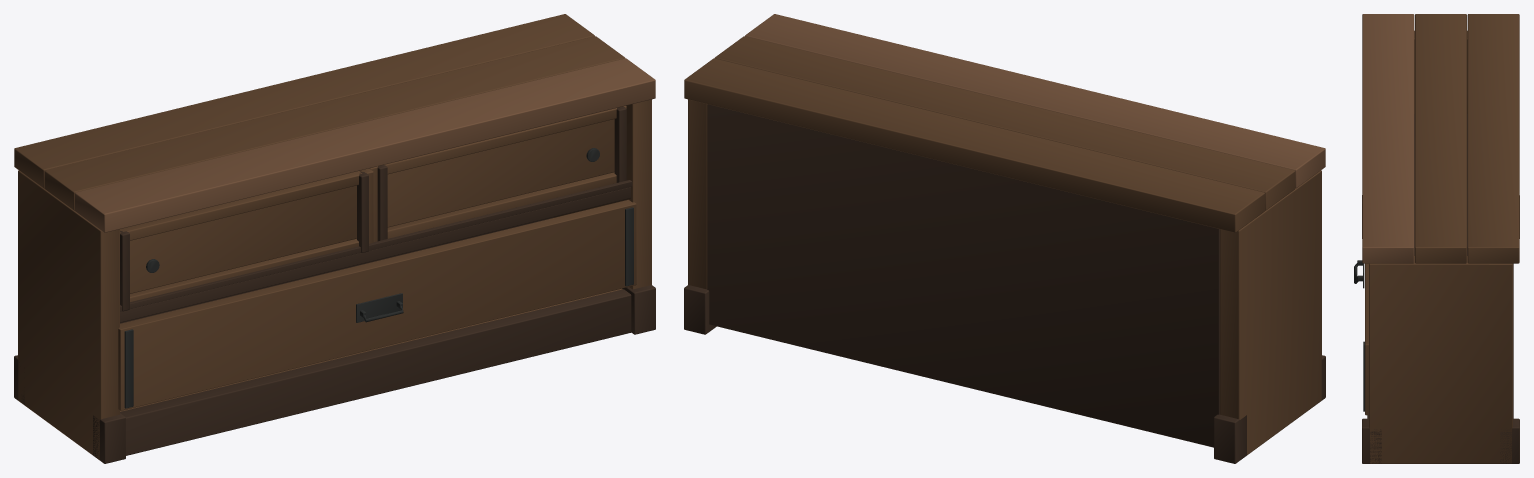
Rendered from kominka-chadansu-1500-01.glb.
3 views of the same model, side by side, from view 1: azimuth 30°, elevation 25°; view 2: azimuth 150°, elevation 25°; view 3: azimuth 270°, elevation 25° (orthographic). The views are drawn at different scales.
Visible parts, largest first — view 1: kominka-chadansu-1500-01; view 2: kominka-chadansu-1500-01; view 3: kominka-chadansu-1500-01.
Boxes of the visible parts, left/top/right/bottom form: kominka-chadansu-1500-01: left=14, top=14, right=655, bottom=463; kominka-chadansu-1500-01: left=684, top=14, right=1325, bottom=463; kominka-chadansu-1500-01: left=1354, top=14, right=1519, bottom=463.
Bounding box in the file's own units: 1.5 × 0.65 × 0.45.
